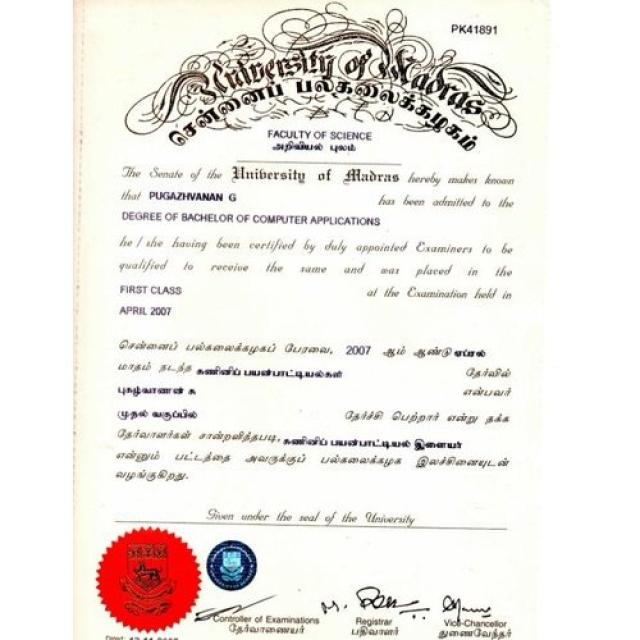degree: (119, 208, 387, 232)
signature: (315, 581, 432, 640), (202, 590, 311, 637), (444, 589, 512, 634)
stamp: (95, 529, 202, 630)
